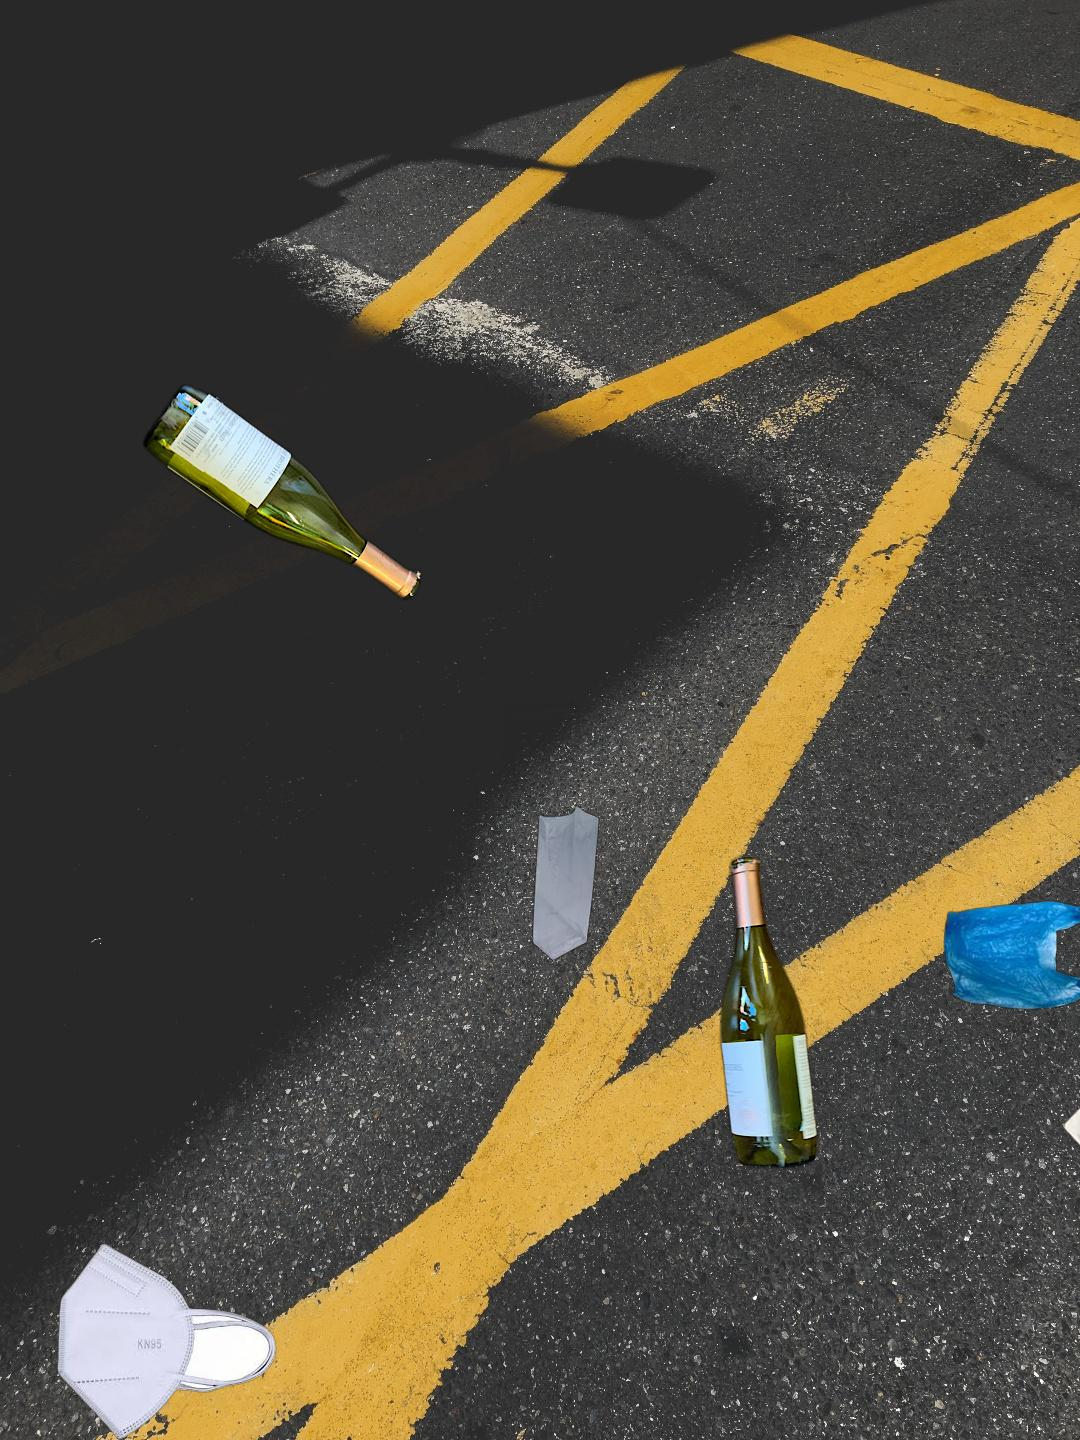glass: (138, 379, 425, 605), (715, 849, 822, 1174)
metal-cans: (655, 1060, 1080, 1440)
paper: (1060, 835, 1080, 1219)
plastic-bag: (497, 704, 601, 963), (940, 898, 1080, 1011)
trash: (54, 1240, 279, 1440)
